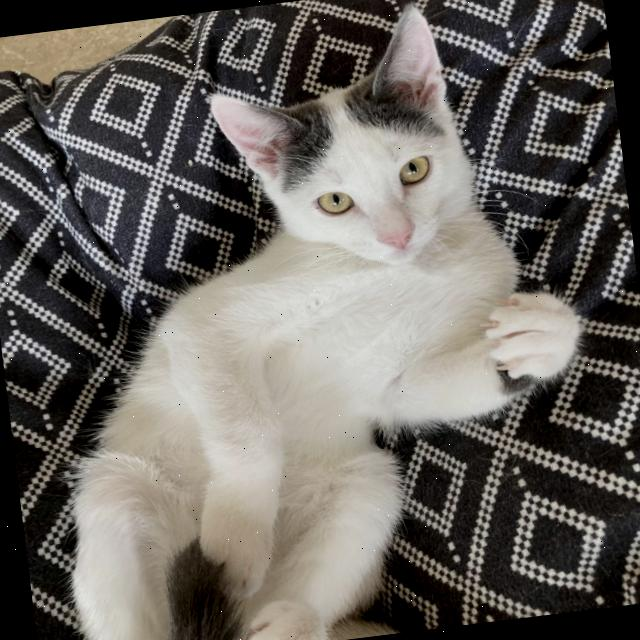american_shorthair_cat: (194, 0, 495, 296)
